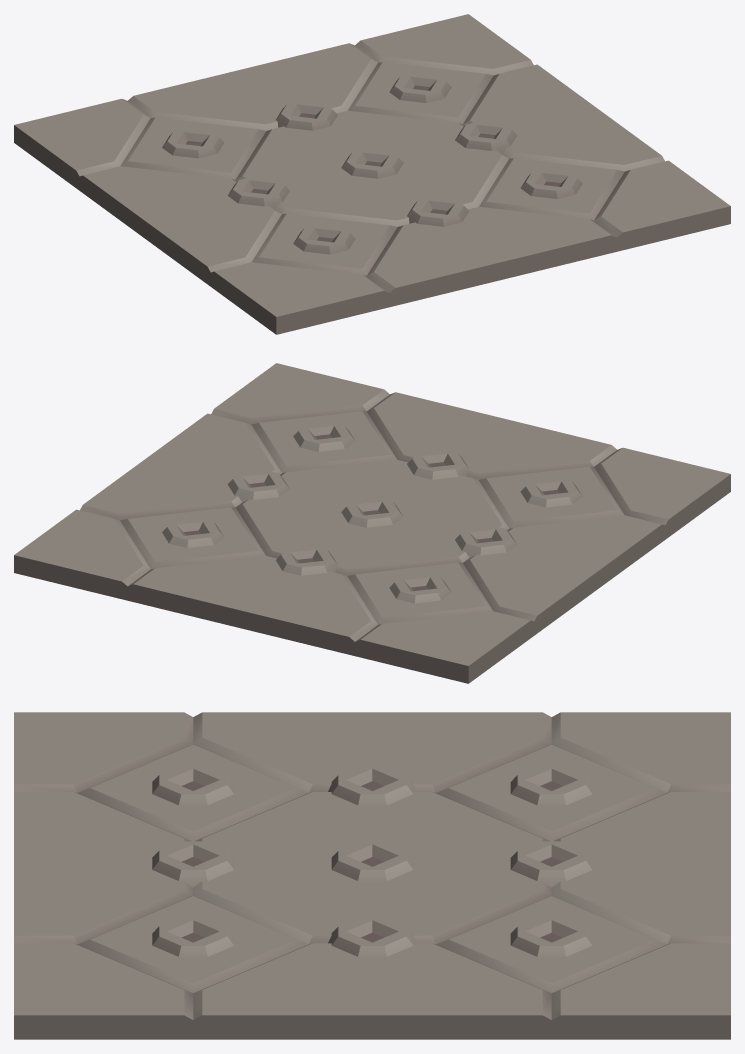
The model's file is floor_tile_big_spikes.gltf.
3 views of the same model, one above another, from view 1: azimuth 30°, elevation 25°; view 2: azimuth 150°, elevation 25°; view 3: azimuth 270°, elevation 25° (orthographic). The views are drawn at different scales.
Visible parts, largest first — view 1: floor_tile_big_spikes; view 2: floor_tile_big_spikes; view 3: floor_tile_big_spikes.
Boxes of the visible parts, x1,y1,x2,y2 form: floor_tile_big_spikes: [14, 14, 730, 334]; floor_tile_big_spikes: [14, 363, 730, 683]; floor_tile_big_spikes: [14, 712, 730, 1039].
Size of the model in its own units: 4 by 0.2 by 4.
Materials: 1 (1 with a texture image).
